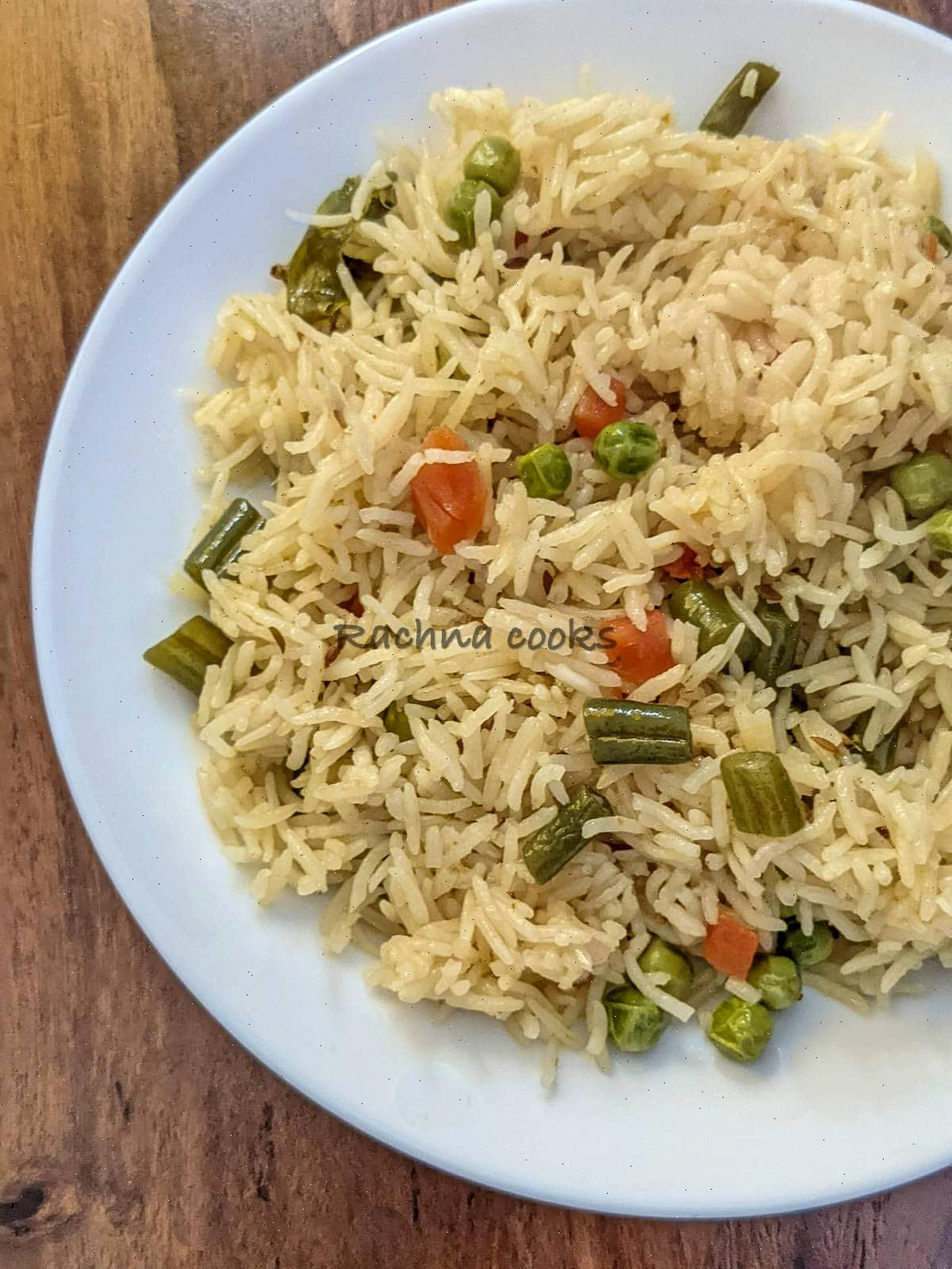veg-pulao: (212, 100, 952, 1090)
